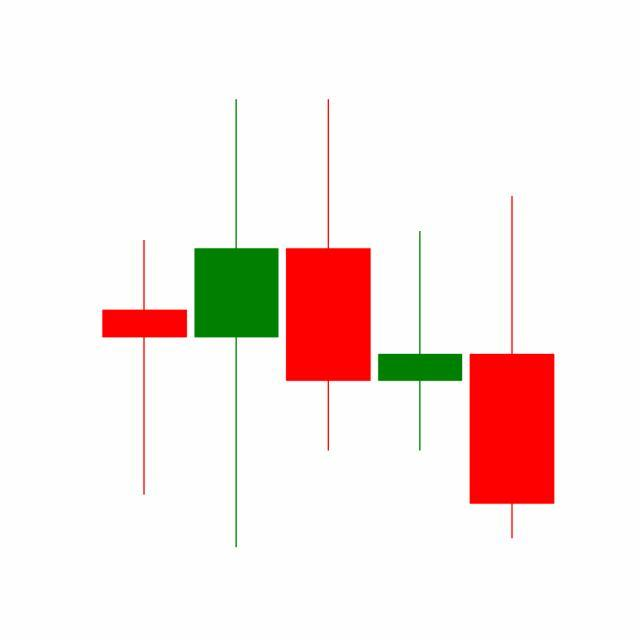Spinning Top: (374, 229, 468, 454)
